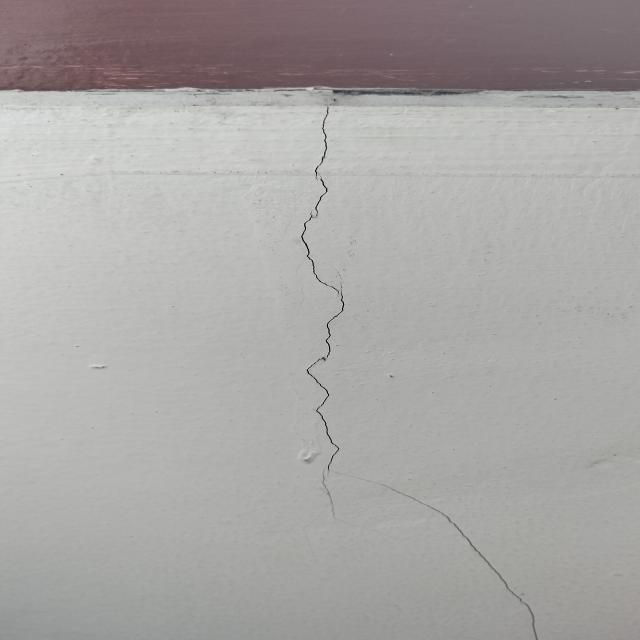Crack: (273, 105, 546, 636)
